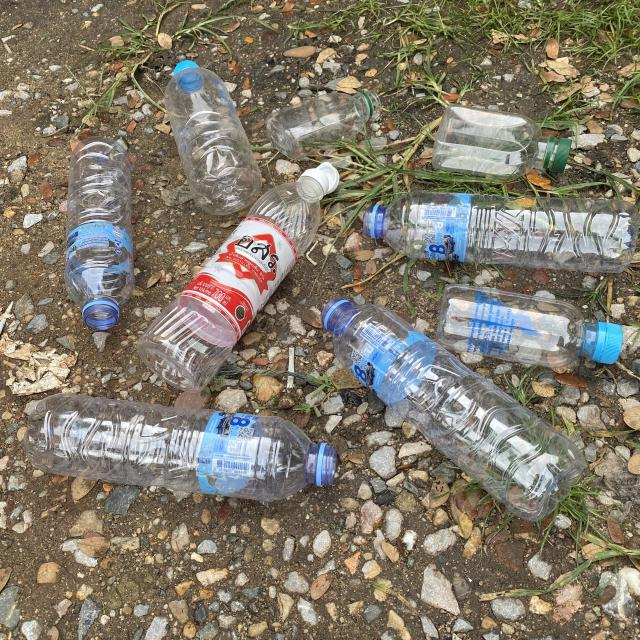plastik: (322, 299, 584, 520), (138, 162, 339, 392), (25, 395, 338, 501), (364, 191, 640, 272), (436, 285, 622, 369), (165, 60, 261, 215), (65, 136, 135, 331), (432, 105, 571, 179), (265, 90, 381, 160)
